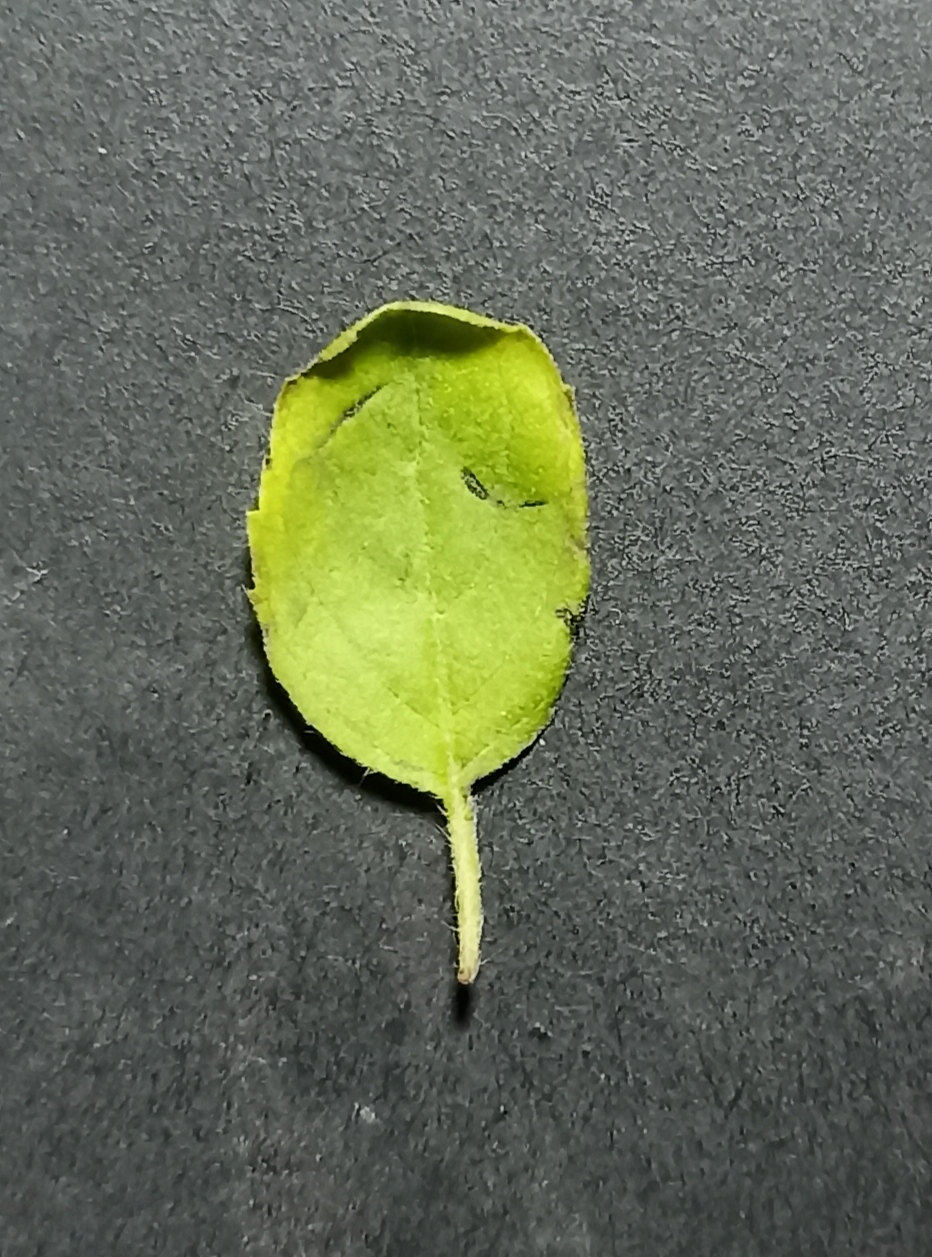Unhealthy: (236, 282, 598, 807)
